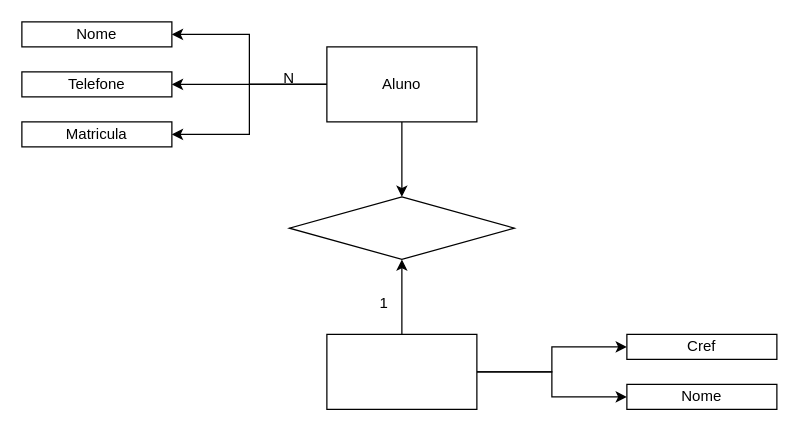
This 799x431 diagram has some shape labels left out. The centre of each missing label's shape, as x and y in pixels:
Orienta: (x=401, y=227)
Professor: (x=401, y=371)
